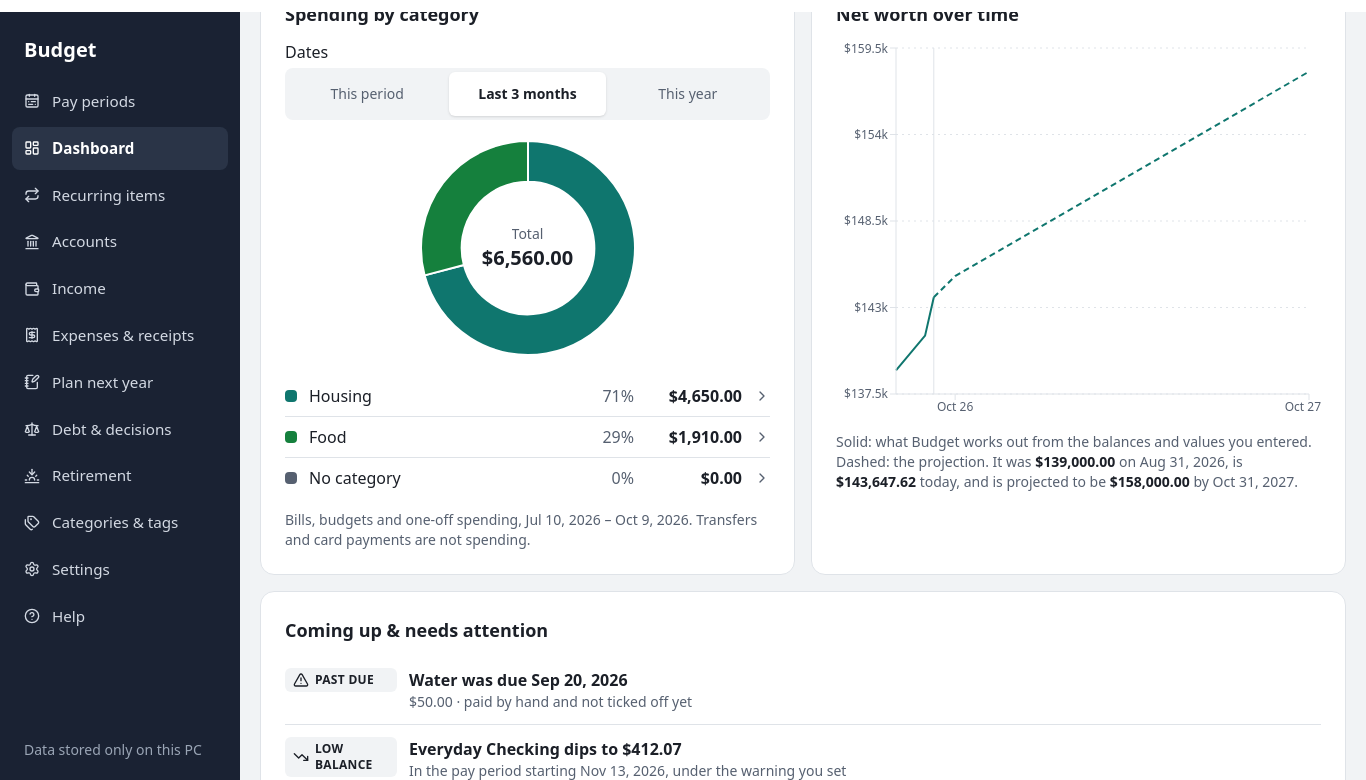
it: Dashboard › opens a category with only payees straight into them
The image size is (1366, 780).
(page scrolled)
What coordinates should you click on to do the following:
click the button with aria-label "Open Housing: $4,650.00"
I would click on:
 (340, 396)
Its box is [277, 376, 778, 416].
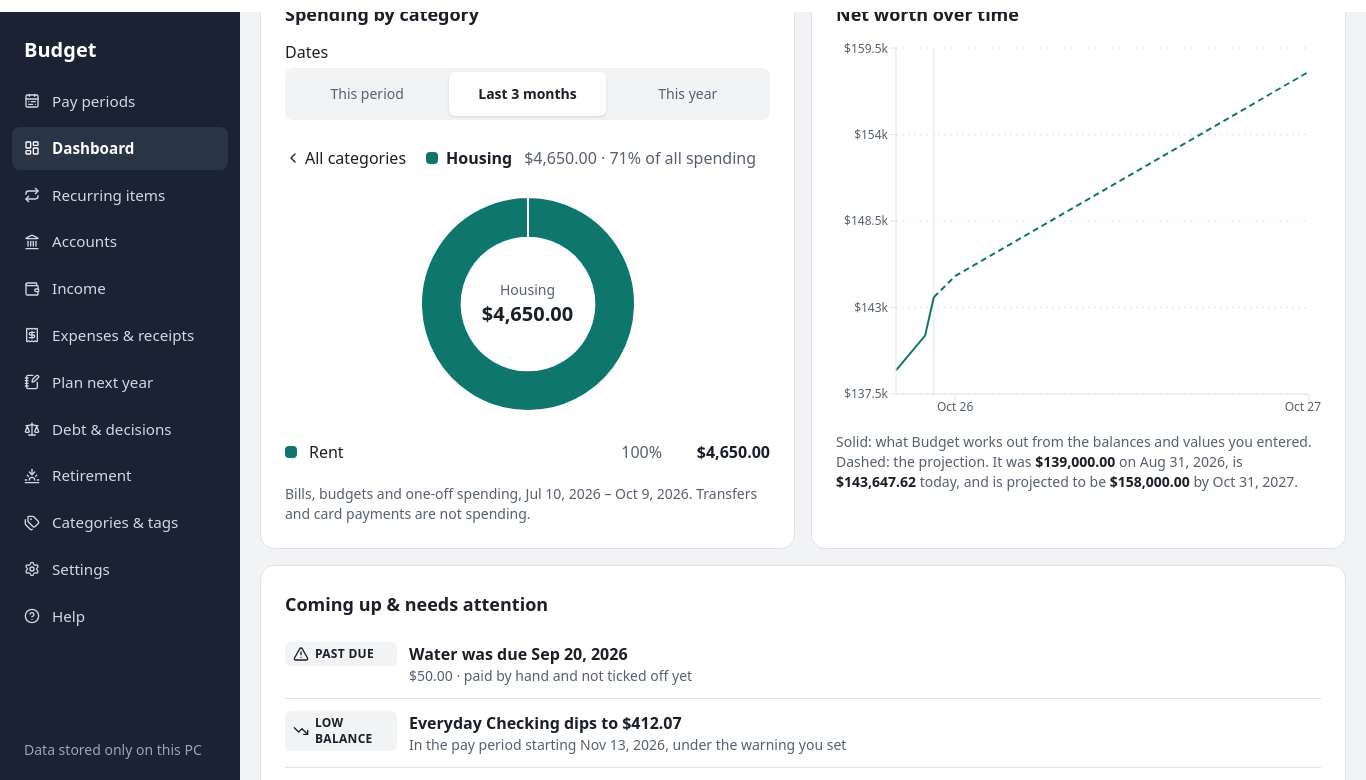
Expected: the list items read "Rent100%$4,650.00", in this order, [285, 441, 770, 463]
